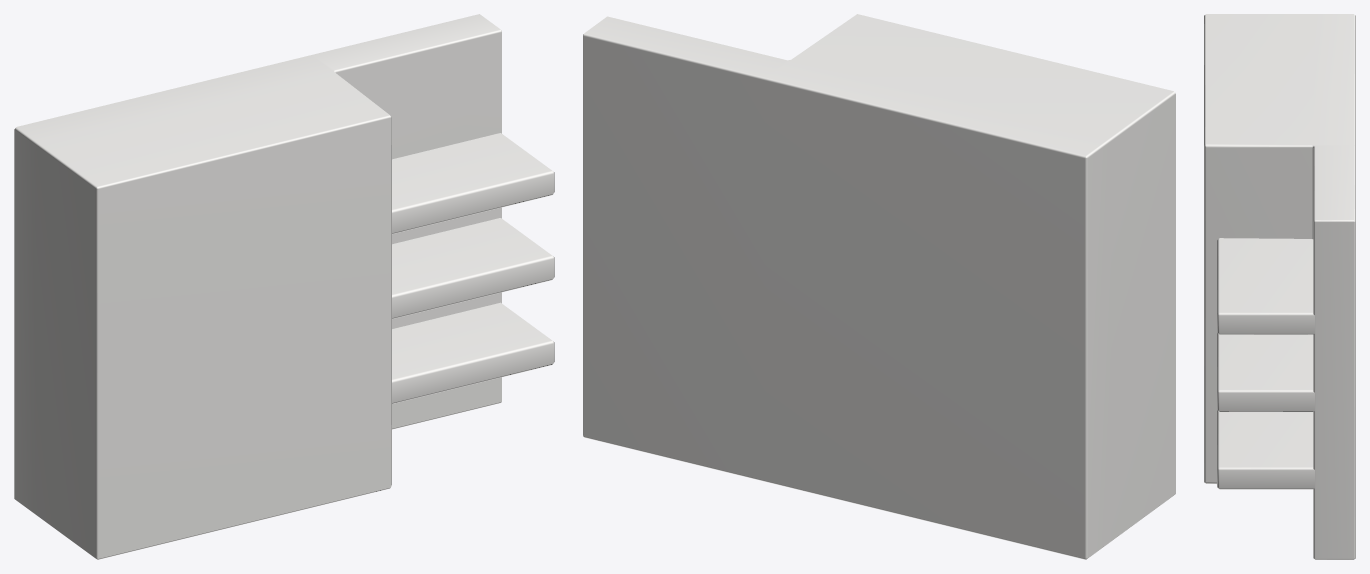
Rendered from Wall_21.glb.
3 renders of one model, left to right at view 1: azimuth 30°, elevation 25°; view 2: azimuth 150°, elevation 25°; view 3: azimuth 270°, elevation 25°, orthographic. The views are drawn at different scales.
Visible parts, largest first — view 1: Wall_21; view 2: Wall_21; view 3: Wall_21.
Boxes of the visible parts, <box> form: Wall_21: <box>14,14,554,559</box>; Wall_21: <box>583,14,1175,559</box>; Wall_21: <box>1204,14,1355,559</box>.
Size of the model in its own units: 4.6 by 3.52 by 1.42.
1 material, 1 textured.
